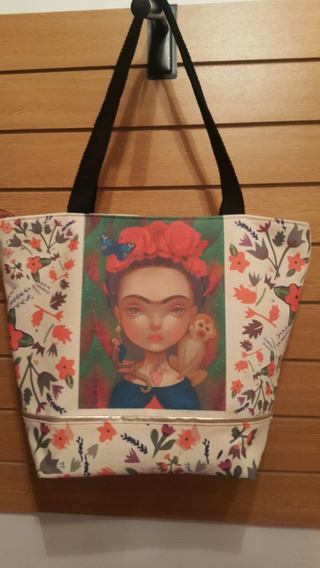cartera: (2, 7, 313, 490)
